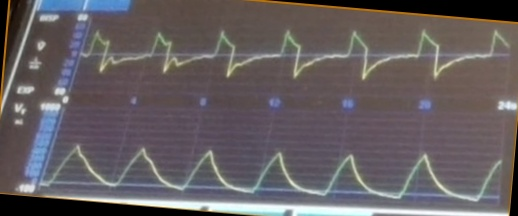Premature_cycling Flow: (88, 23, 509, 91)
Premature_cycling Volume: (56, 140, 499, 201)
